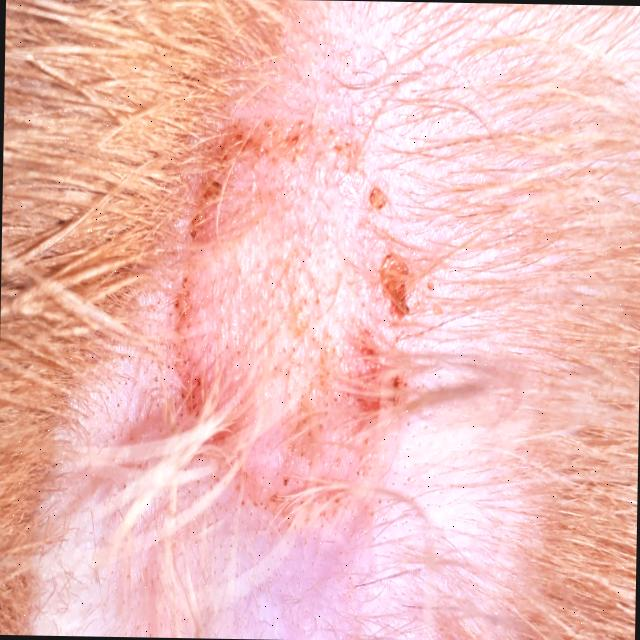cat-ringworm: (134, 95, 426, 558)
